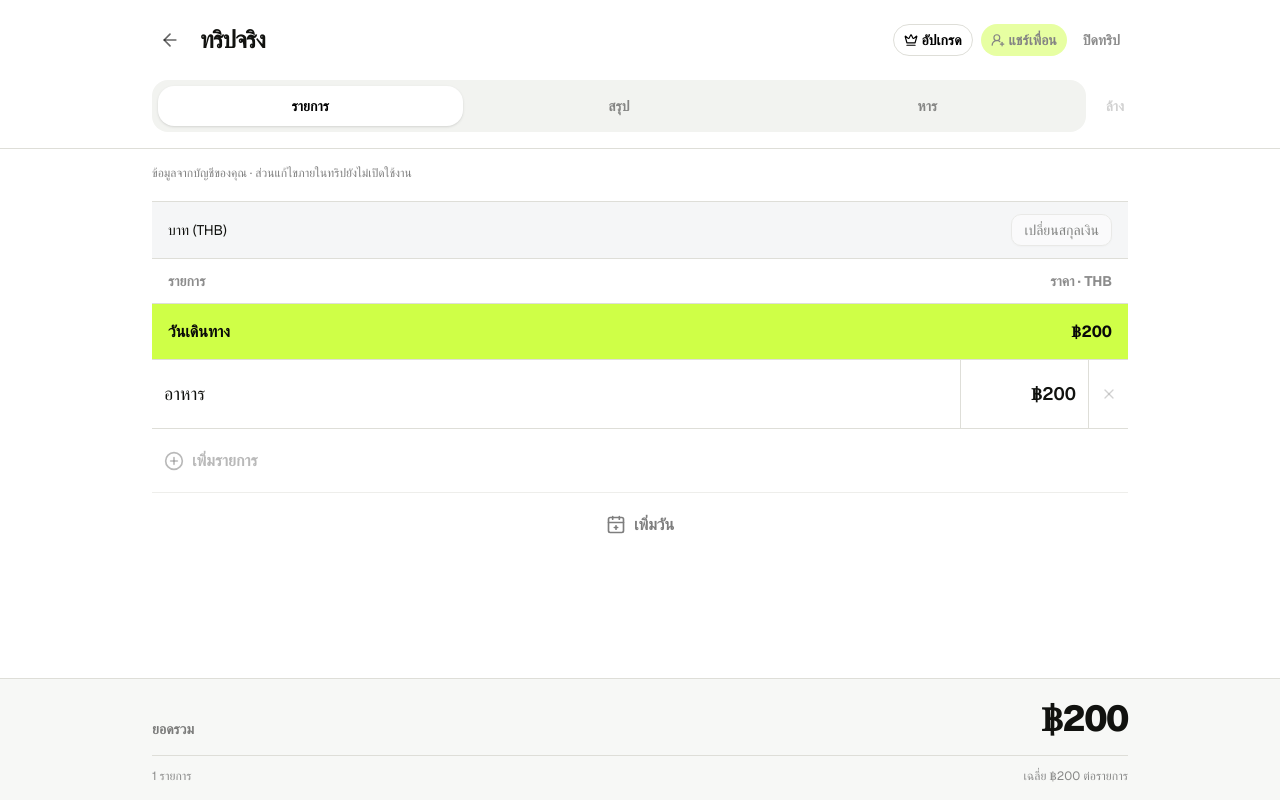
Test: แสดงวันและรายการจริง พร้อมสลับสรุป/ภาระจ่าย โดยไม่เขียนหรืออ่าน storage
The width and height of the screenshot is (1280, 800).
Expected: the heading "ทริปจริง" is shown, 200,24 -> 265,55
Expected: the heading "วันเดินทาง" is shown, 168,320 -> 230,344
What coordinates should you click on to do the following:
click the button "สรุป"
I would click on:
 (619, 106)
Its box is 467,86 -> 771,126.
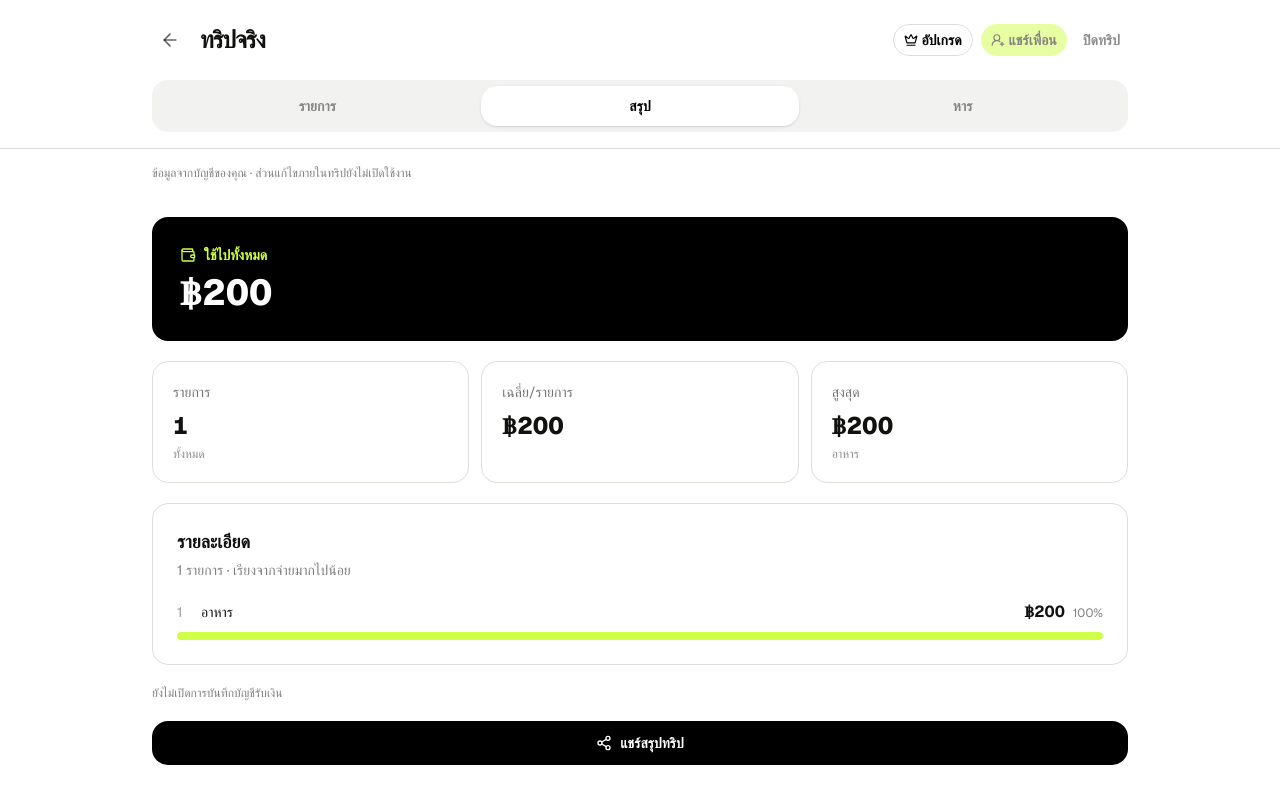
What coordinates should you click on to do the following:
click the button "หาร"
I would click on:
 (963, 106)
Its box is 803,86 -> 1122,126.
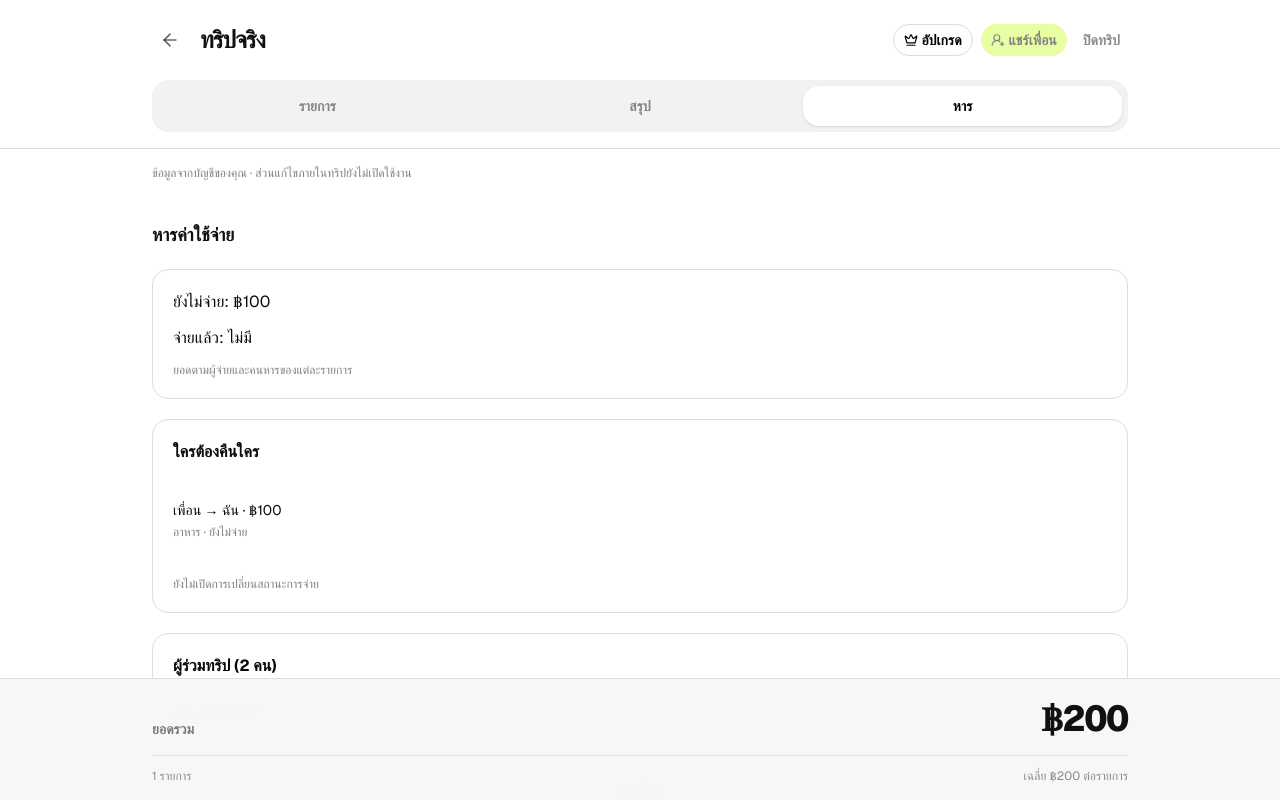
Result: the text "เพื่อน → ฉัน · ฿100" is shown at 173,501 -> 282,519
Result: the heading "ผู้ร่วมทริป (2 คน)" is shown at 173,655 -> 277,676
